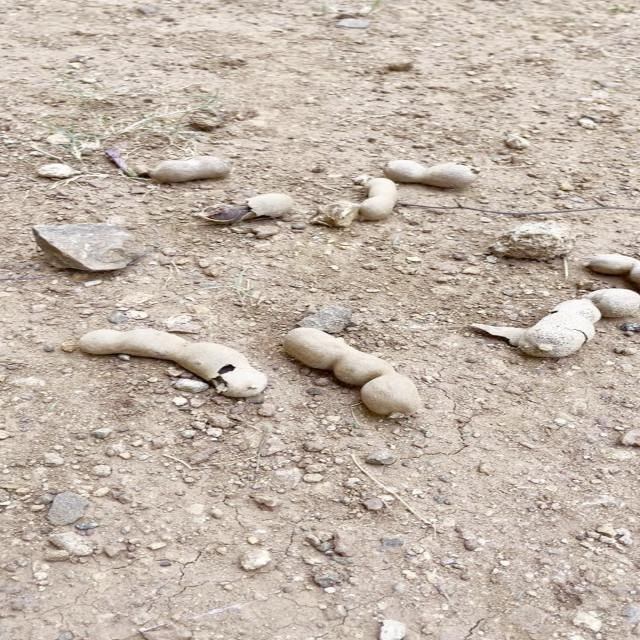tamarind: (70, 326, 272, 396), (278, 320, 422, 414), (514, 282, 636, 364), (378, 157, 478, 185), (142, 154, 254, 177), (353, 176, 407, 220)
